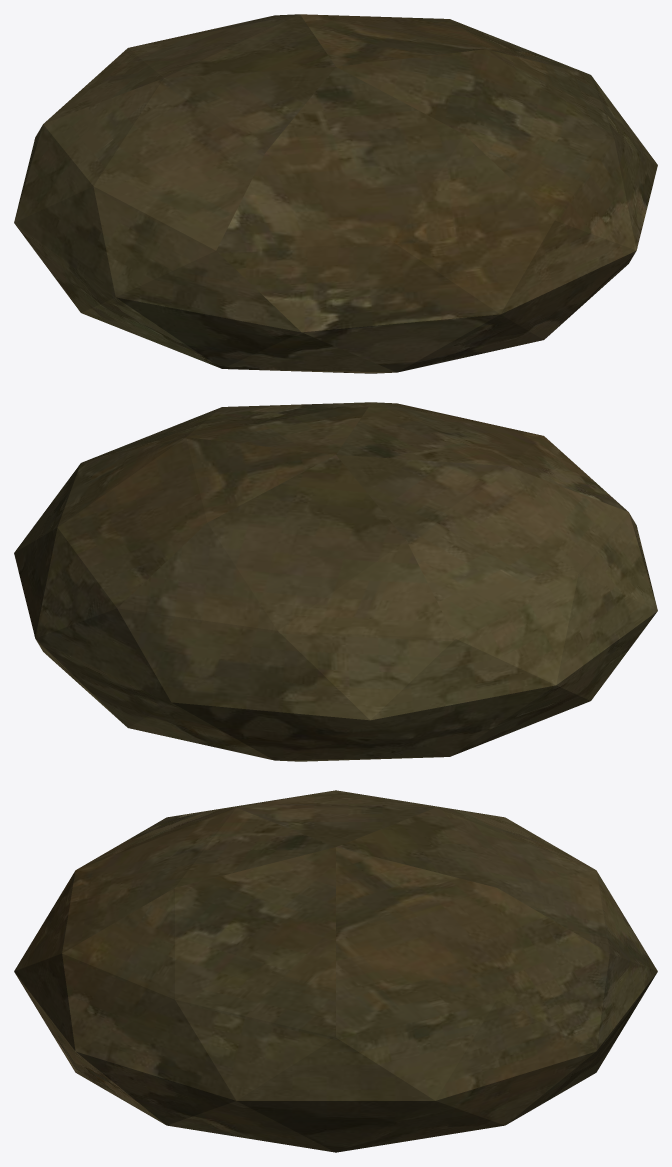
Rendered from ground.fbx.
The picture shows the model from 3 angles, top to bottom: view 1: azimuth 30°, elevation 25°; view 2: azimuth 150°, elevation 25°; view 3: azimuth 270°, elevation 25°; orthographic projection. The views are drawn at different scales.
Visible parts, largest first — view 1: Icosphere; view 2: Icosphere; view 3: Icosphere.
Part boxes in pixels (x1,y1,x2,y2): Icosphere: (14,14,657,373); Icosphere: (14,402,657,761); Icosphere: (14,790,657,1152).
Size of the model in its own units: 190 by 85.26 by 200.
Materials: 1 (1 with a texture image).
